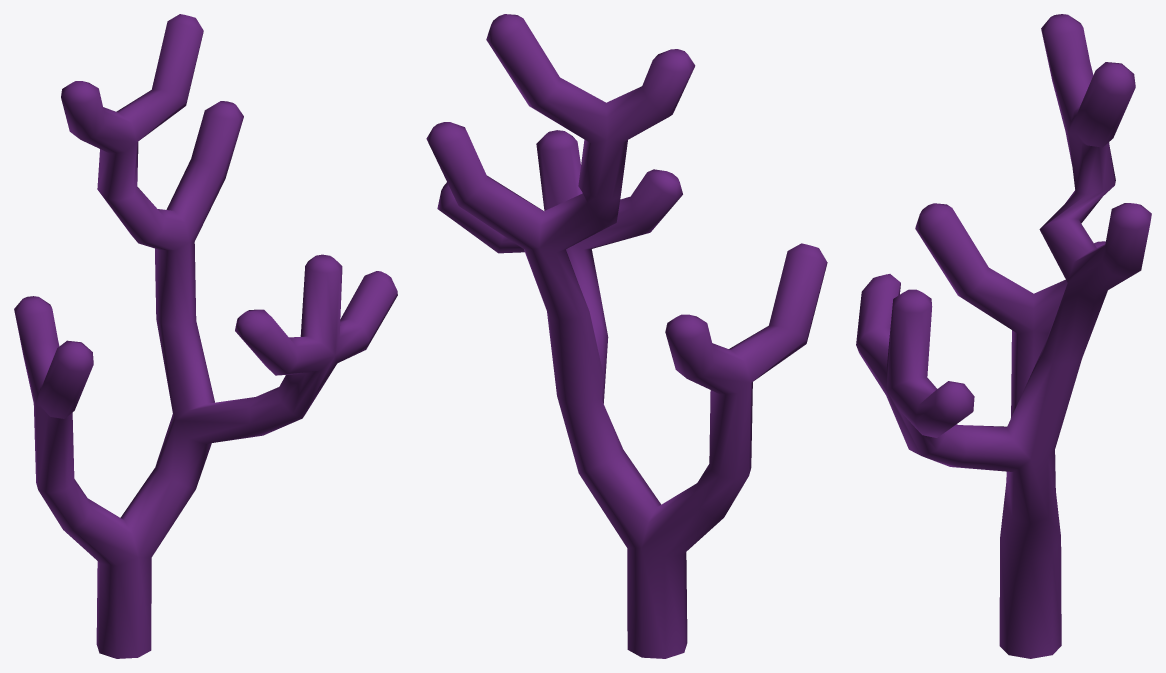
File: Sea_plant_1_4.001.fbx
3 renders of one model, left to right at view 1: azimuth 30°, elevation 25°; view 2: azimuth 150°, elevation 25°; view 3: azimuth 270°, elevation 25°, orthographic. The views are drawn at different scales.
Parts seen in each view (by area): view 1: Sea_plant_1_4.001; view 2: Sea_plant_1_4.001; view 3: Sea_plant_1_4.001.
Boxes of the visible parts, left/top/right/bottom form: Sea_plant_1_4.001: left=14, top=14, right=397, bottom=658; Sea_plant_1_4.001: left=426, top=14, right=827, bottom=658; Sea_plant_1_4.001: left=856, top=14, right=1151, bottom=658.
Size of the model in its own units: 0.8557 by 1.37 by 0.5814.
